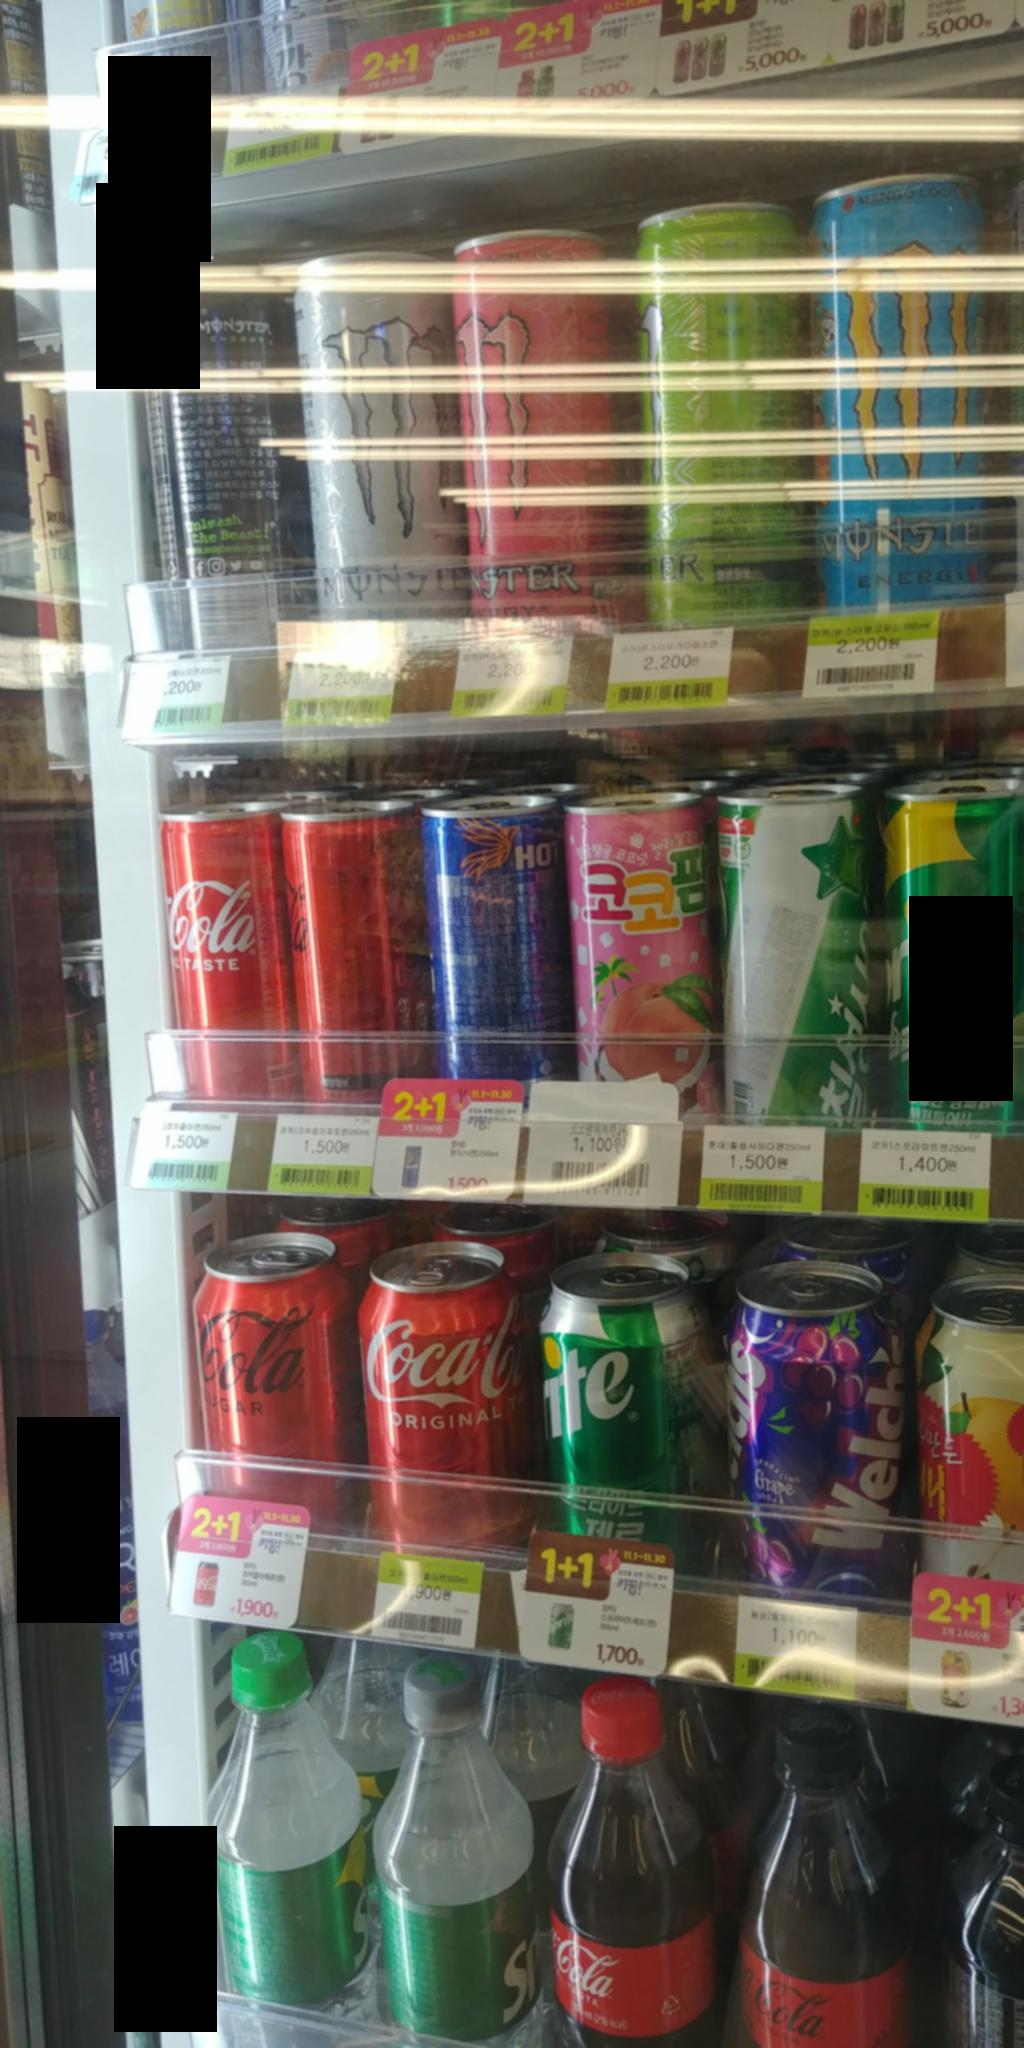cocacola: (353, 1241, 549, 1557)
cocacola_zero: (277, 794, 438, 1112)
sprite_zero: (363, 1644, 549, 2048)
welchs_grape: (725, 1249, 920, 1603)
